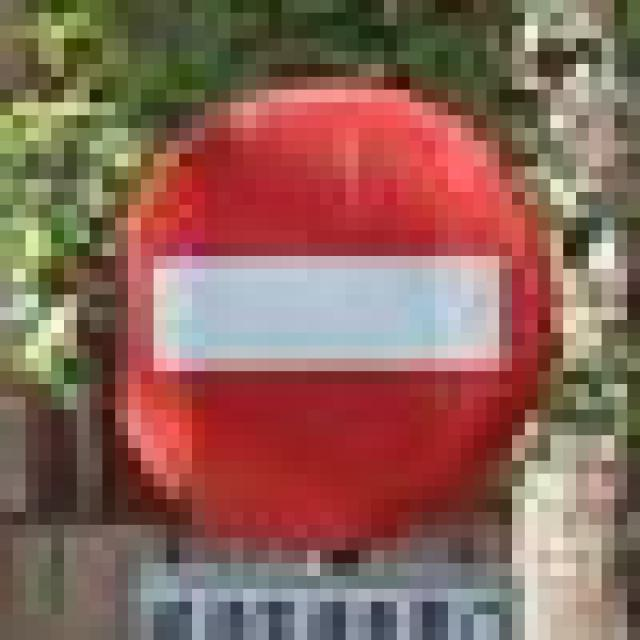NO_ENTRY: (102, 64, 538, 525)
